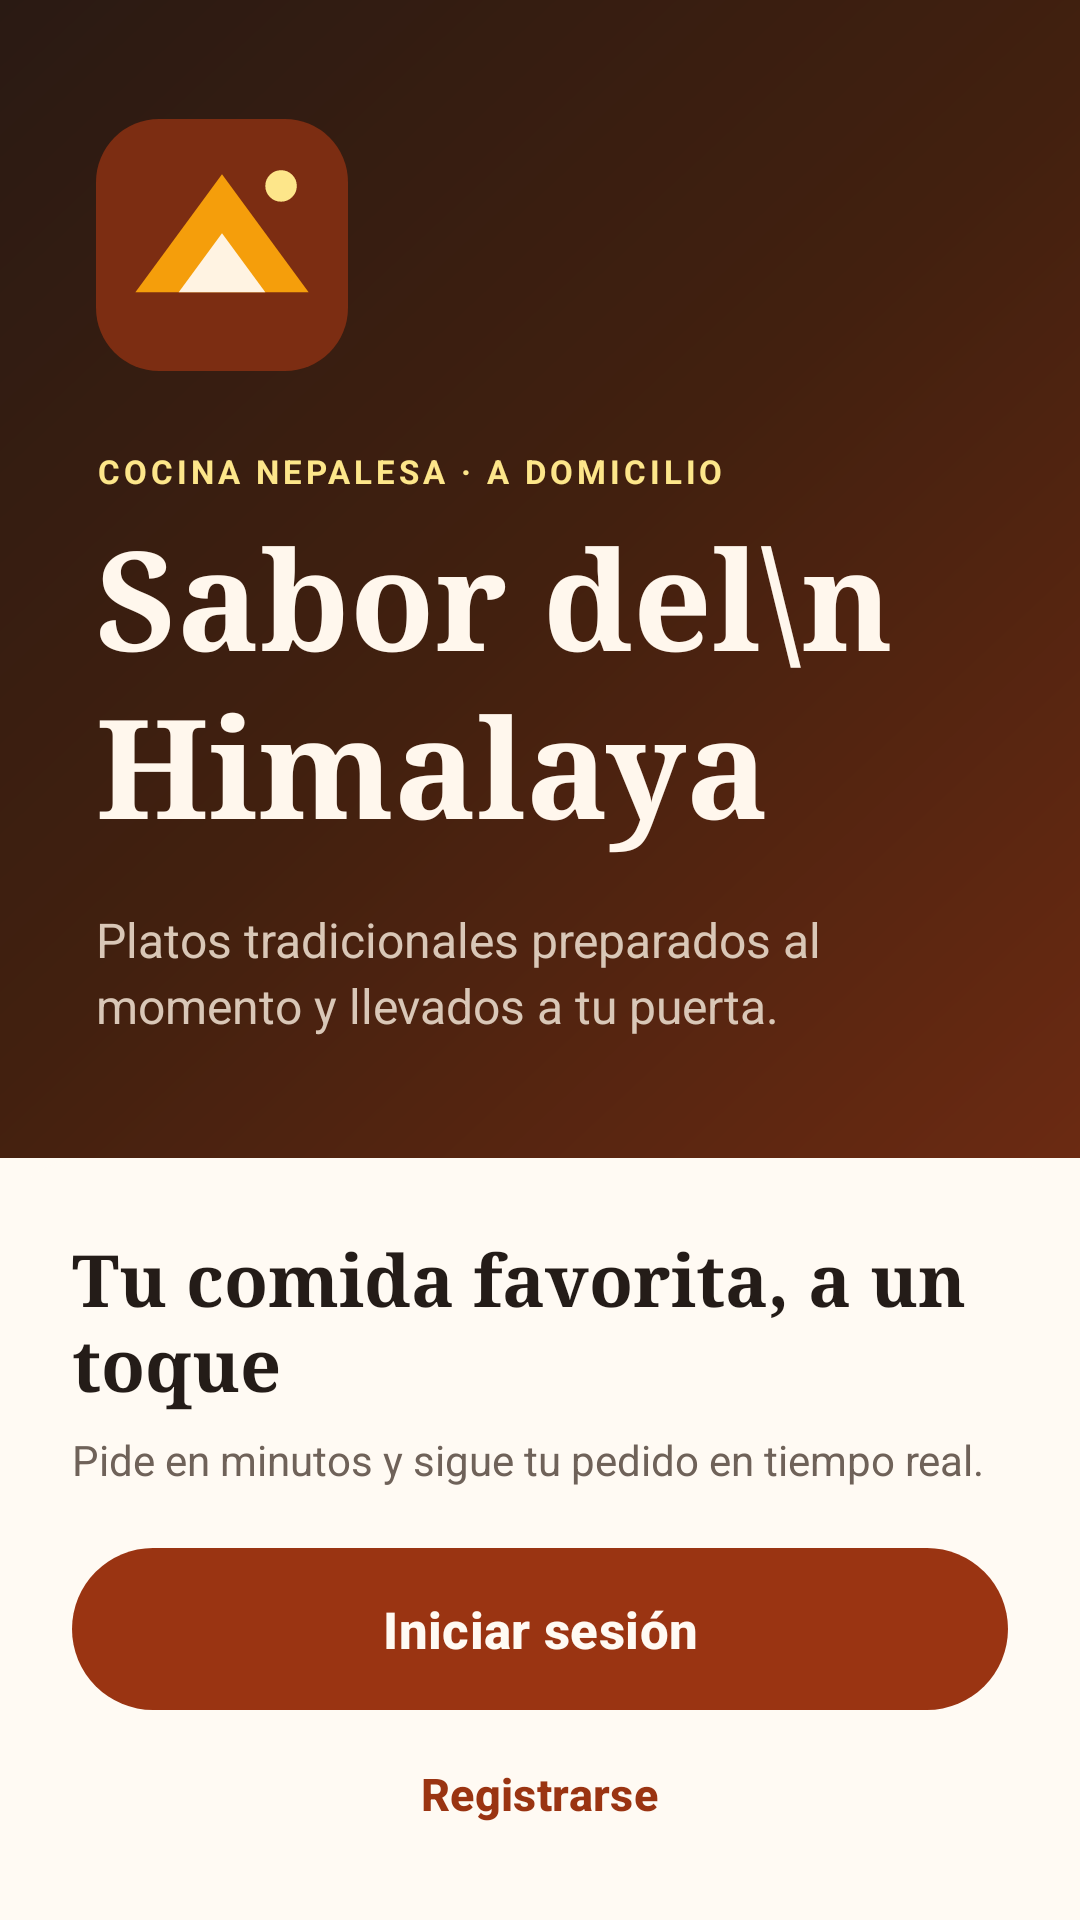

Locate icon controls on the screen. Image size 1080x1920, boxes as [x1,y1,x2,y2].
brand web: [96,119,348,371]
